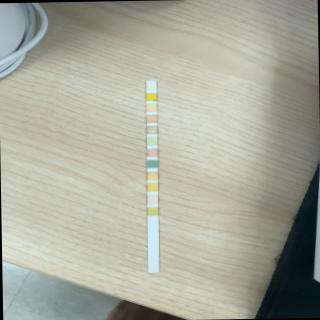mark: (146, 125, 158, 134), (146, 183, 158, 191), (146, 137, 158, 145), (147, 195, 158, 203), (147, 172, 158, 180), (147, 207, 159, 214), (147, 160, 157, 168), (148, 148, 158, 156), (146, 114, 156, 122), (146, 103, 156, 111), (146, 92, 156, 100), (146, 82, 156, 89)
